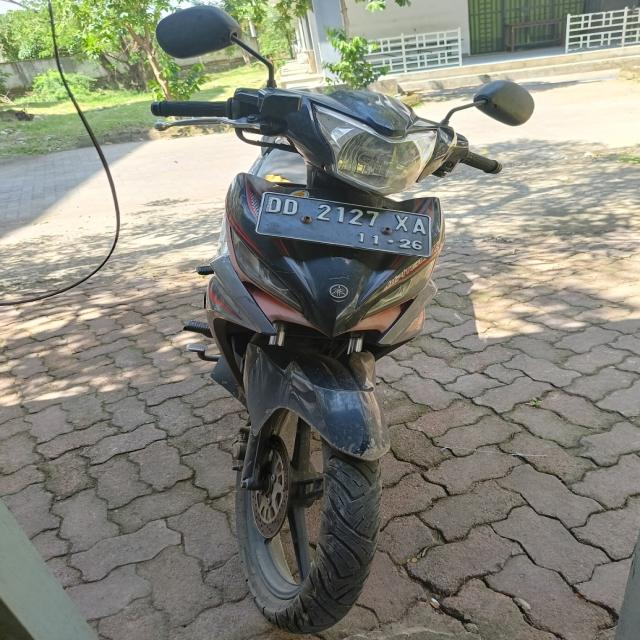plates: (258, 184, 439, 258)
